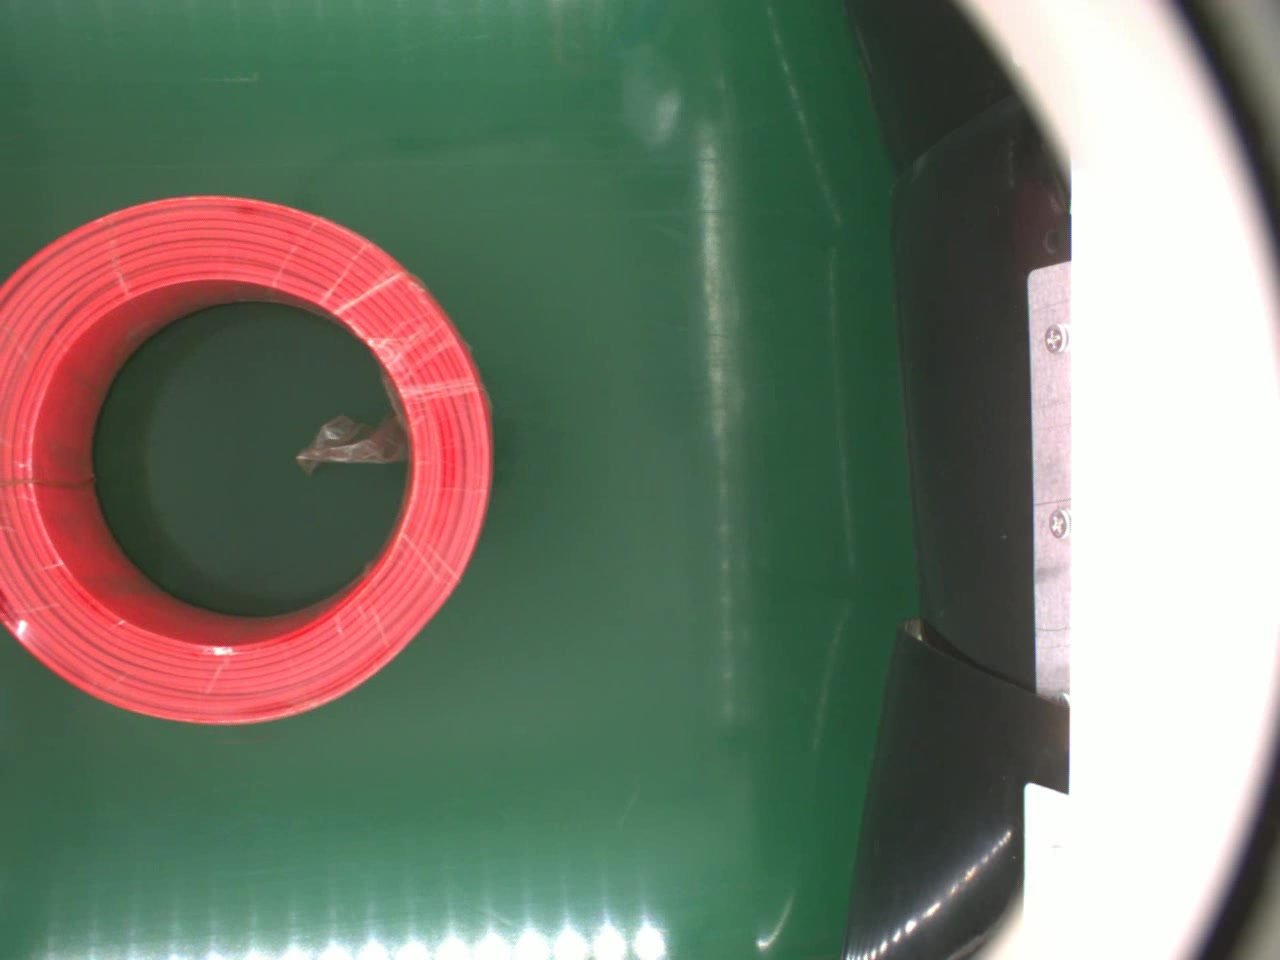red: (0, 190, 497, 726)
